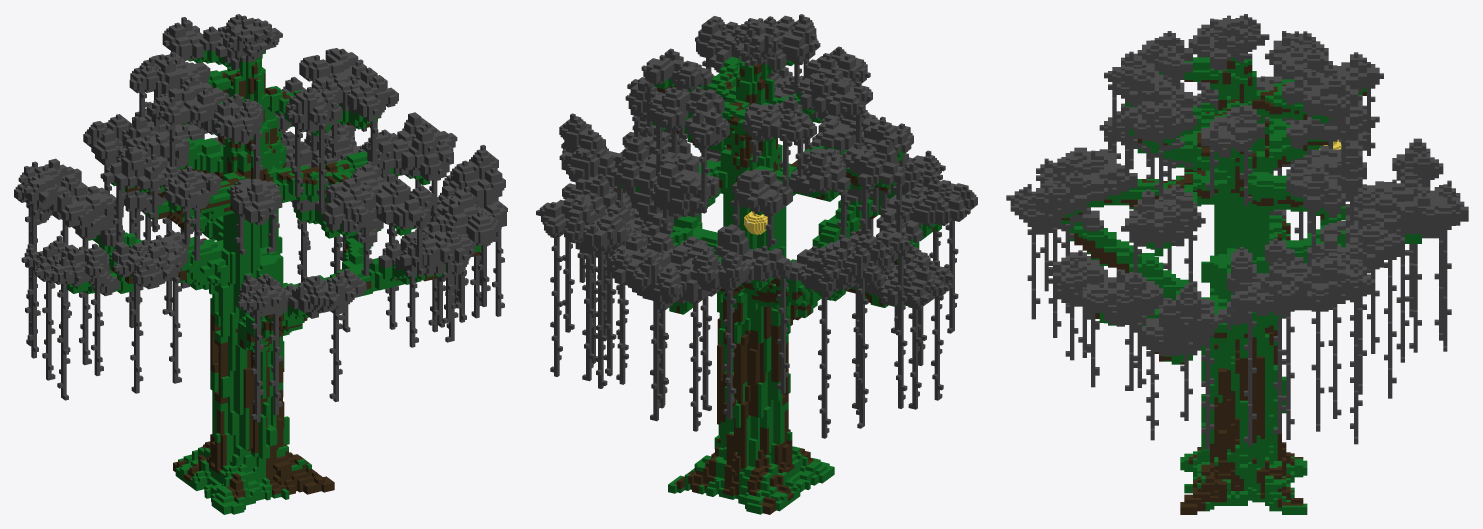
File: 金苹果树.FBX
The picture shows the model from 3 angles, left to right: view 1: azimuth 30°, elevation 25°; view 2: azimuth 150°, elevation 25°; view 3: azimuth 270°, elevation 25°; orthographic projection. The views are drawn at different scales.
Visible parts, largest first — view 1: default001; view 2: default001; view 3: default001.
Part boxes in pixels (<box>): default001: <box>14,14,507,514</box>; default001: <box>536,14,977,514</box>; default001: <box>1006,14,1468,514</box>.
Size of the model in its own units: 118 by 122 by 109.
